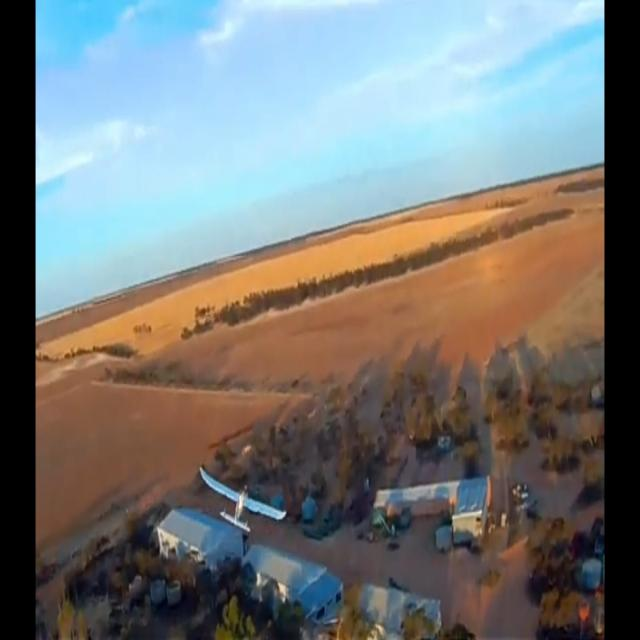iha: (231, 497, 255, 502)
